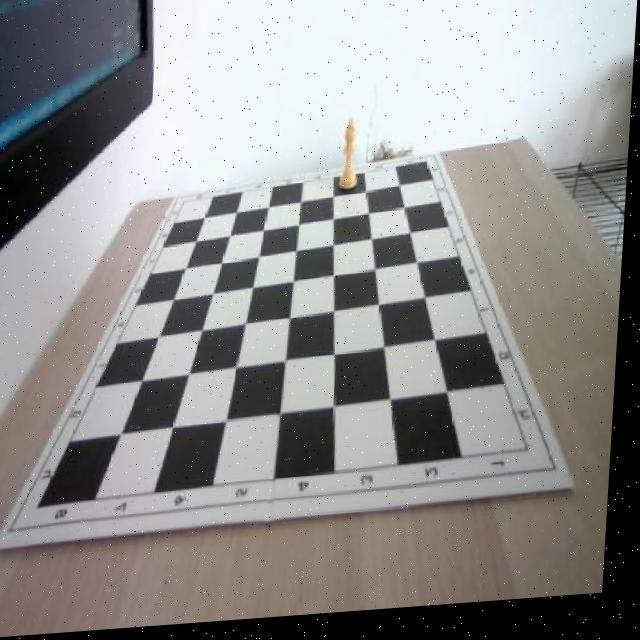black-rook: (341, 120, 364, 196)
